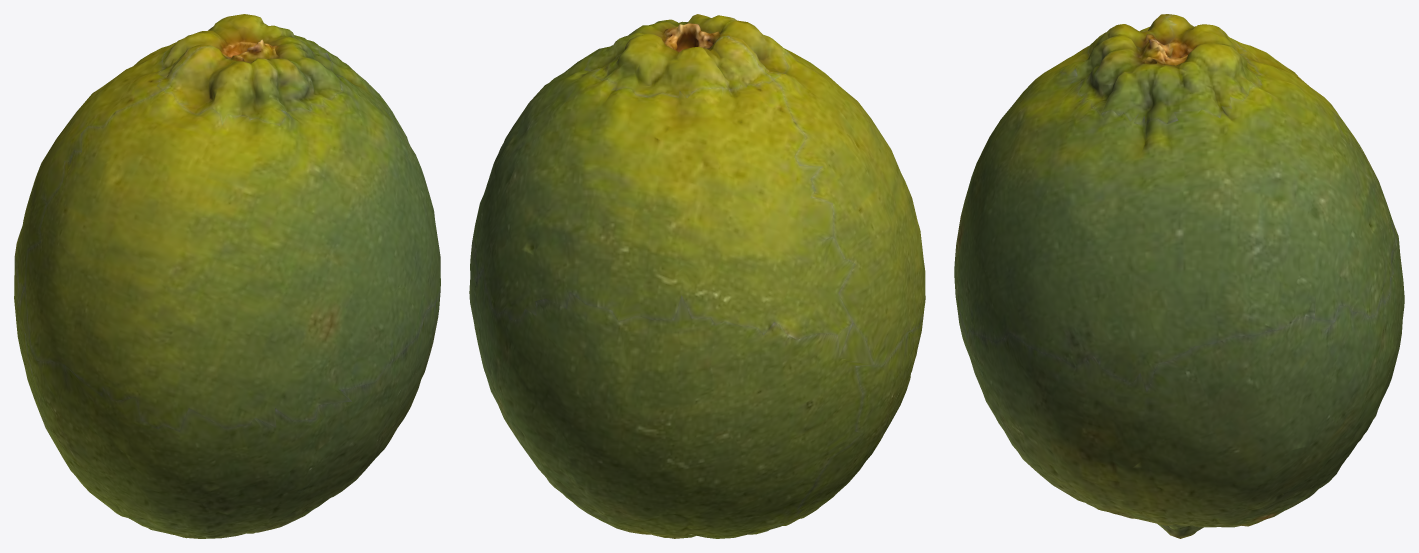
File: food_lime_01.glb
3 views of the same model, side by side, from view 1: azimuth 30°, elevation 25°; view 2: azimuth 150°, elevation 25°; view 3: azimuth 270°, elevation 25° (orthographic).
Parts seen in each view (by area): view 1: food_lime_01; view 2: food_lime_01; view 3: food_lime_01.
Part boxes in pixels (<box>): food_lime_01: <box>14,14,440,538</box>; food_lime_01: <box>469,14,925,538</box>; food_lime_01: <box>954,14,1404,538</box>.
Size of the model in its own units: 0.0601 by 0.0754 by 0.0613.
Materials: 1 (1 with a texture image).
